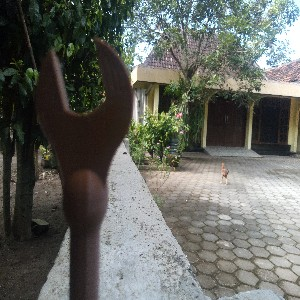spanner: (34, 40, 134, 300)
